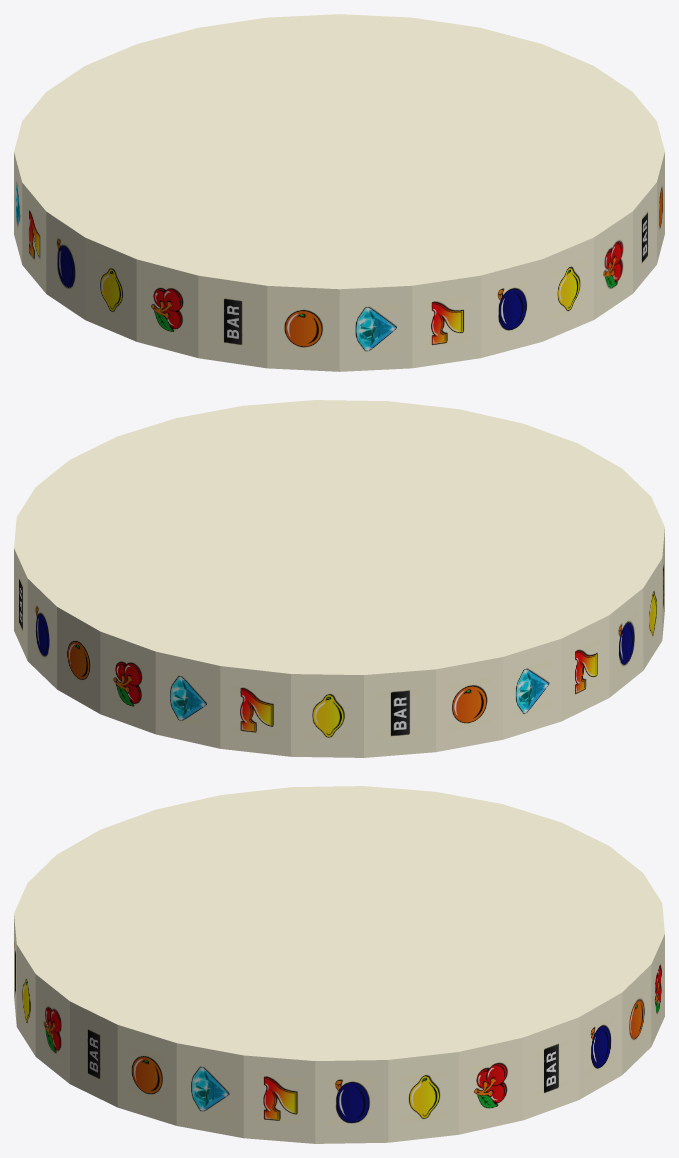
File: WHEEL4.fbx
3 renders of one model, top to bottom at view 1: azimuth 30°, elevation 25°; view 2: azimuth 150°, elevation 25°; view 3: azimuth 270°, elevation 25°, orthographic.
Parts seen in each view (by area): view 1: Cylinder; view 2: Cylinder; view 3: Cylinder.
Part boxes in pixels (x1,y1,x2,y2): Cylinder: [14, 14, 664, 371]; Cylinder: [14, 400, 664, 757]; Cylinder: [14, 786, 664, 1143].
Bounding box in the file's own units: 199 × 28 × 199.
